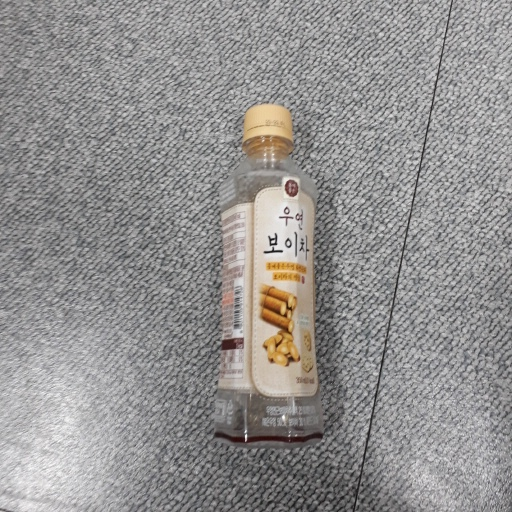Plastic_0: (211, 100, 324, 446)
